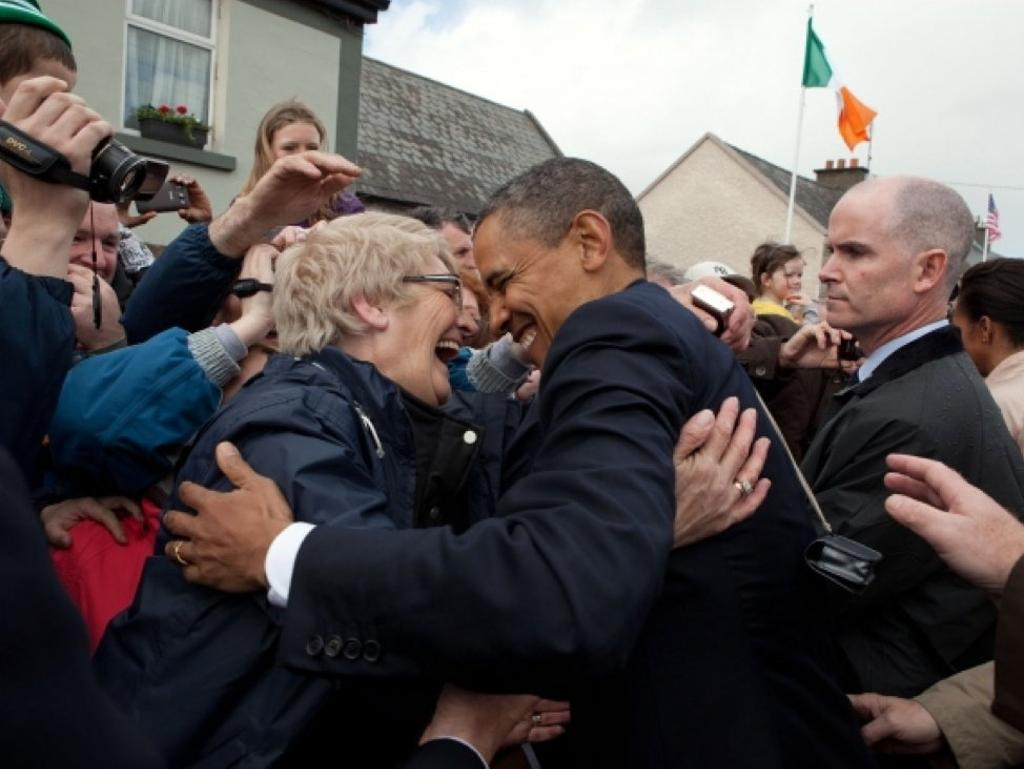face: (475, 230, 592, 371), (379, 253, 476, 405), (821, 210, 917, 327), (46, 191, 118, 308), (428, 226, 474, 306), (957, 307, 1009, 372), (272, 124, 320, 190), (771, 261, 802, 298)
